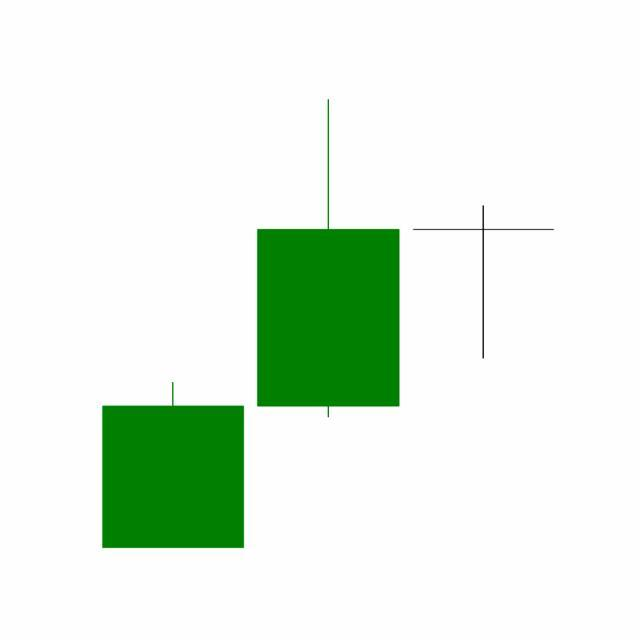Dragonfly Doji: (406, 204, 562, 362)
